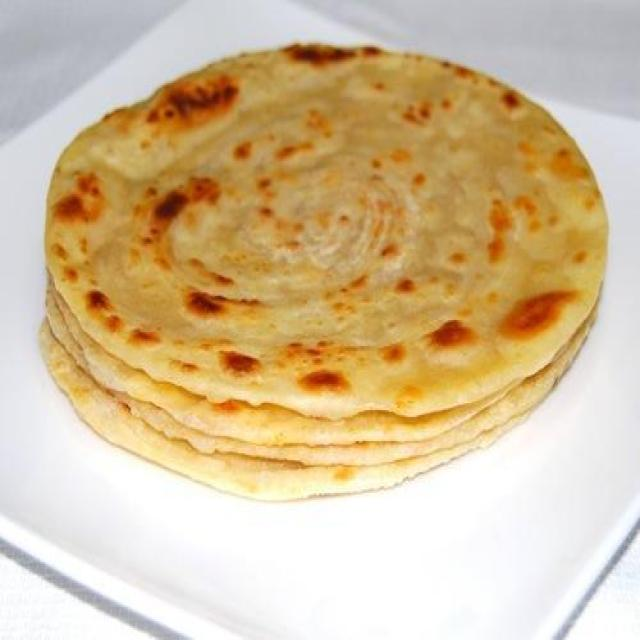roti: (42, 37, 614, 505)
